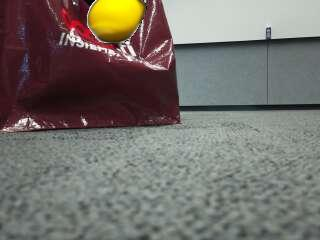lemon: (90, 1, 146, 43)
